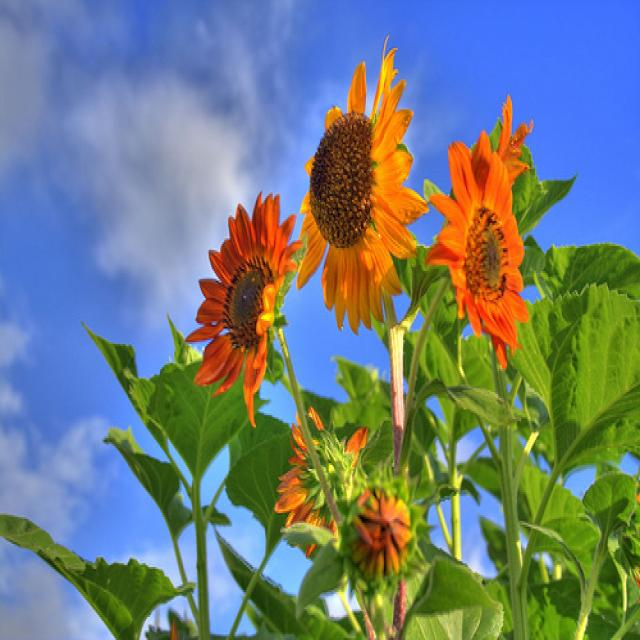sunflower: (296, 40, 428, 338), (420, 127, 530, 377), (187, 190, 301, 430)
